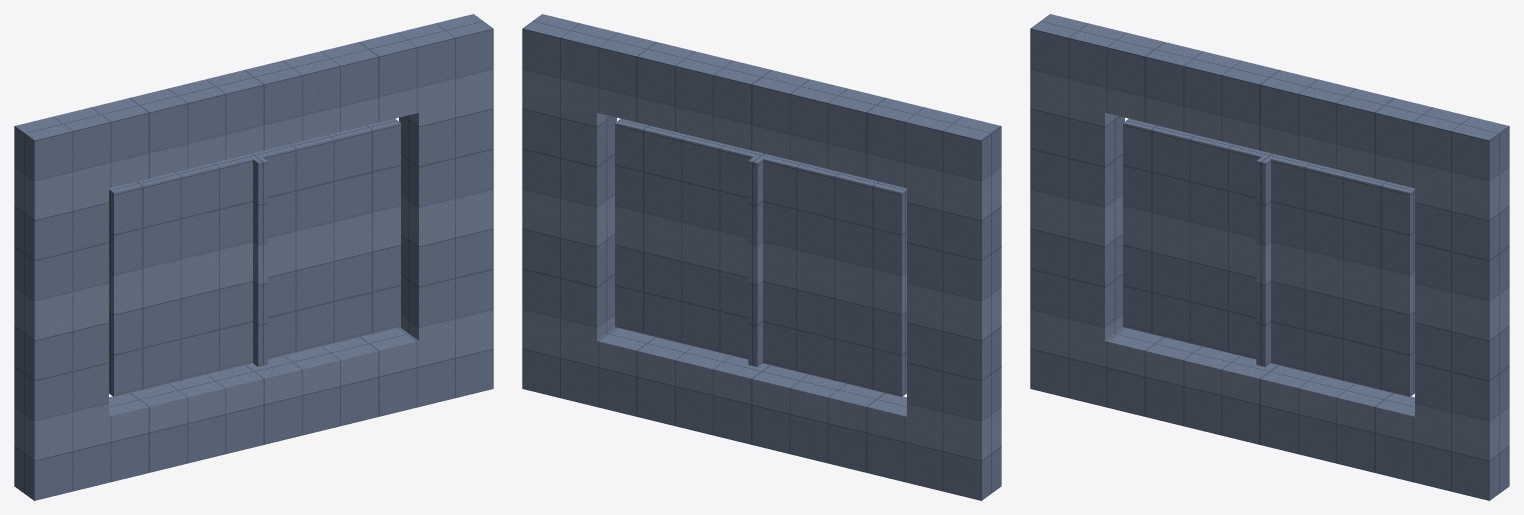
3 views of the same model, side by side, from view 1: azimuth 30°, elevation 25°; view 2: azimuth 150°, elevation 25°; view 3: azimuth 330°, elevation 25° (orthographic).
Parts seen in each view (by area): view 1: win_brick_1u_production_run001; view 2: win_brick_1u_production_run001; view 3: win_brick_1u_production_run001.
Boxes of the visible parts, bbox=[...] form: win_brick_1u_production_run001: bbox=[14, 14, 493, 500]; win_brick_1u_production_run001: bbox=[522, 14, 1001, 500]; win_brick_1u_production_run001: bbox=[1030, 14, 1509, 500].
Bounding box in the file's own units: 4 × 3 × 0.3.
1 material, 1 textured.
